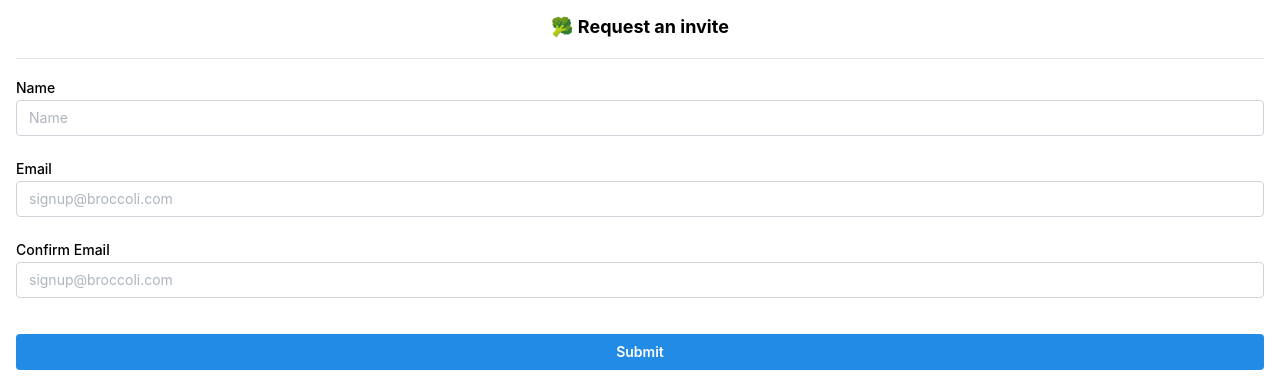
Test: InviteForm › Should display error if email and confirmEmail are invalid
The image size is (1280, 391).
In the field labelled "Email": (640, 199) [16,181,1264,217], type "test@test.com"
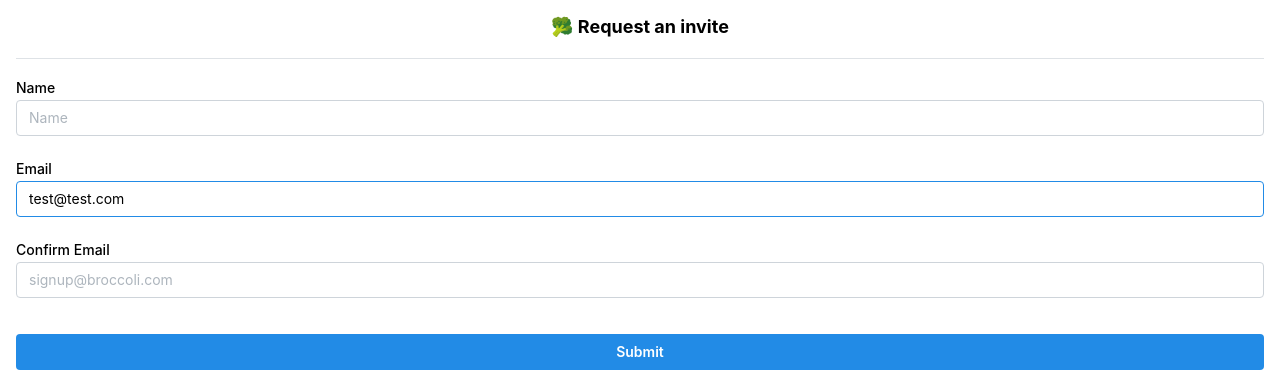
In the field labelled "Confirm Email": (640, 280) [16,262,1264,298], type "test1@test.com"
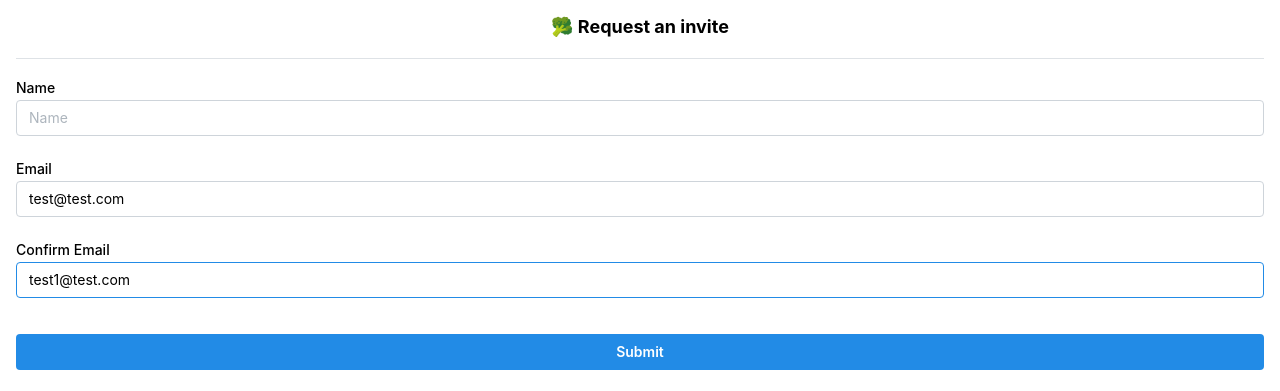
Press Tab
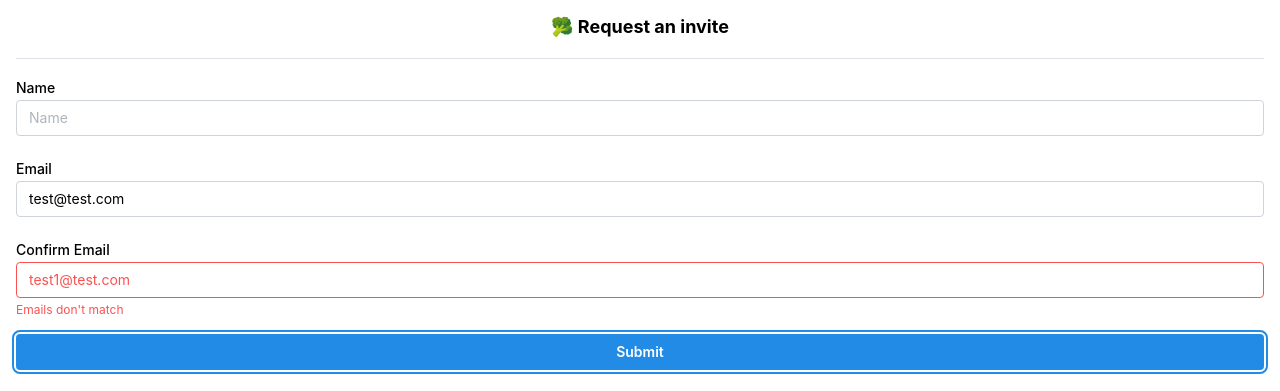
Check: the text "Emails don't match" is shown, box [16,302,124,317]
